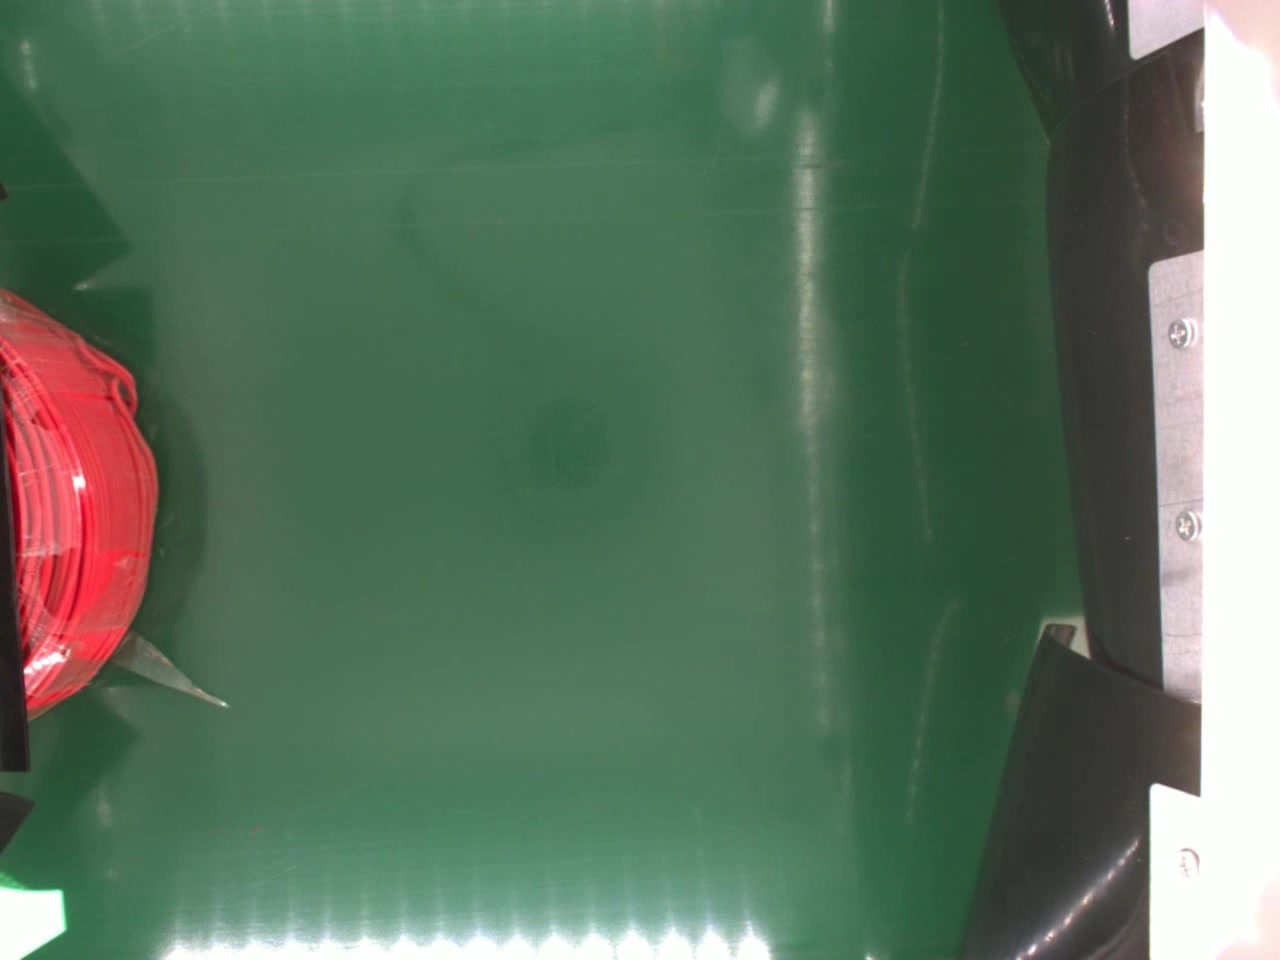red: (0, 276, 158, 721)
